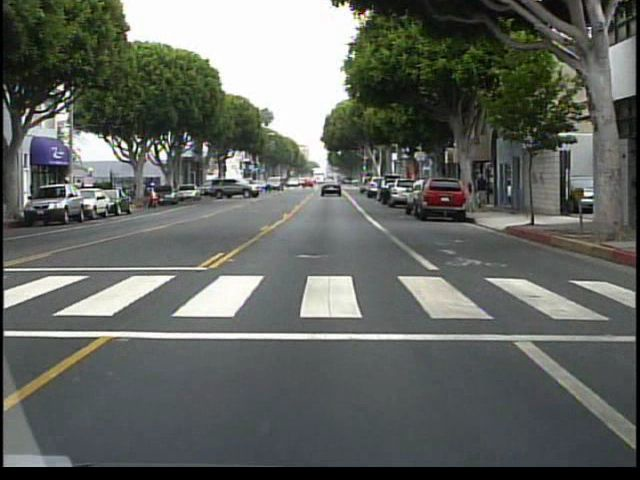person: (471, 174, 492, 214), (145, 176, 162, 209)
